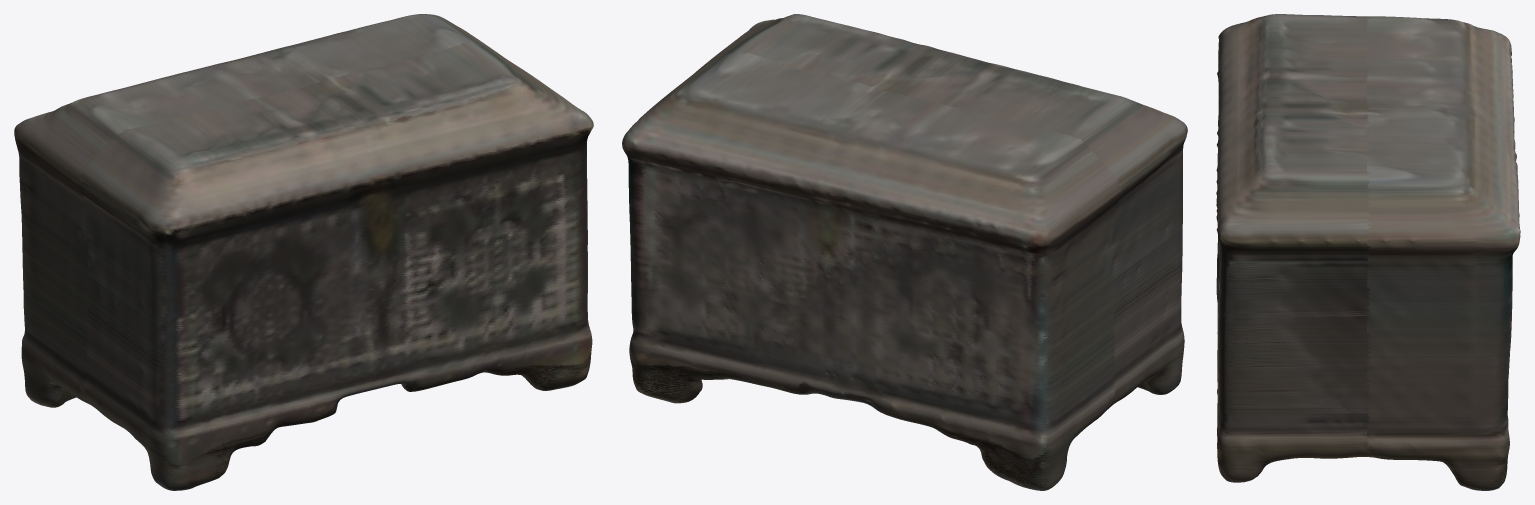
The model's file is kfl-2300.glb.
3 renders of one model, left to right at view 1: azimuth 30°, elevation 25°; view 2: azimuth 150°, elevation 25°; view 3: azimuth 270°, elevation 25°, orthographic. The views are drawn at different scales.
Visible parts, largest first — view 1: geometry_0; view 2: geometry_0; view 3: geometry_0.
Boxes of the visible parts, box(x1,y1,x2,y2) form: geometry_0: box(14, 14, 593, 490); geometry_0: box(622, 14, 1187, 490); geometry_0: box(1216, 14, 1520, 490).
Bounding box in the file's own units: 0.9922 × 0.678 × 0.6095.
1 material, 1 textured.
